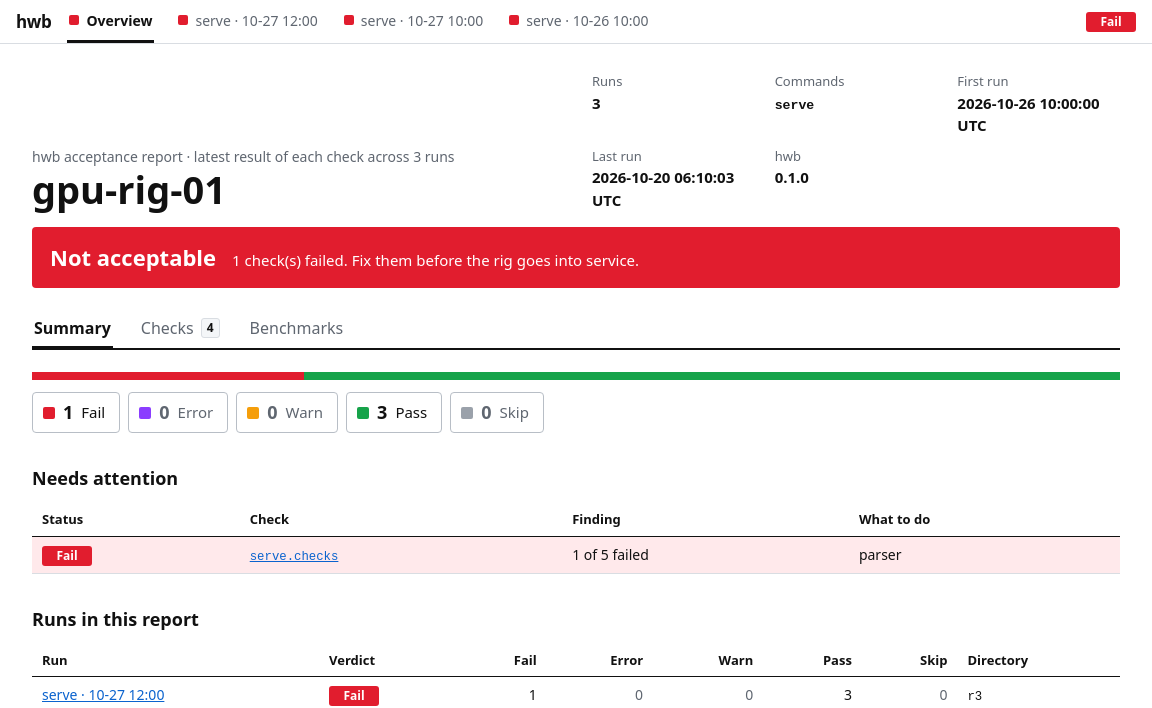
Scenario: model serving › lines up every serve run on the overview, grouped by model
Click the tab "Benchmarks": (296, 333) [248,316,345,350]
(page scrolled)
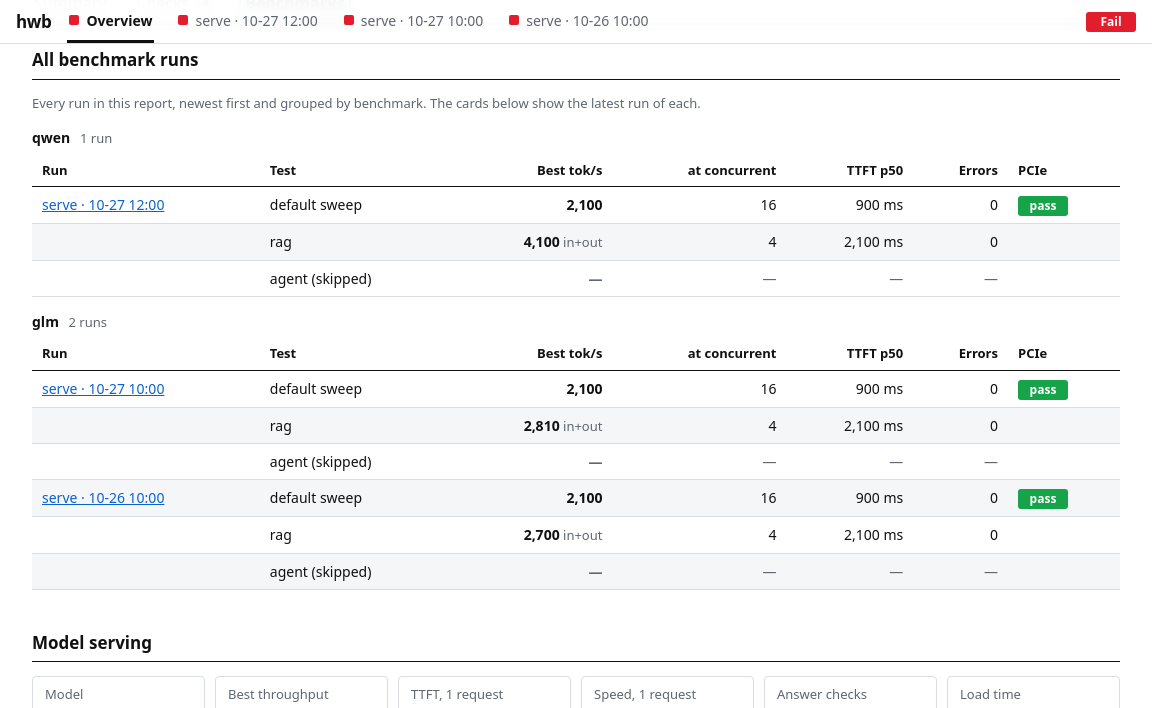
Result: the row "rag 2,810 in+out 4 2,100 ms 0" is shown at [32,407,1120,444]
